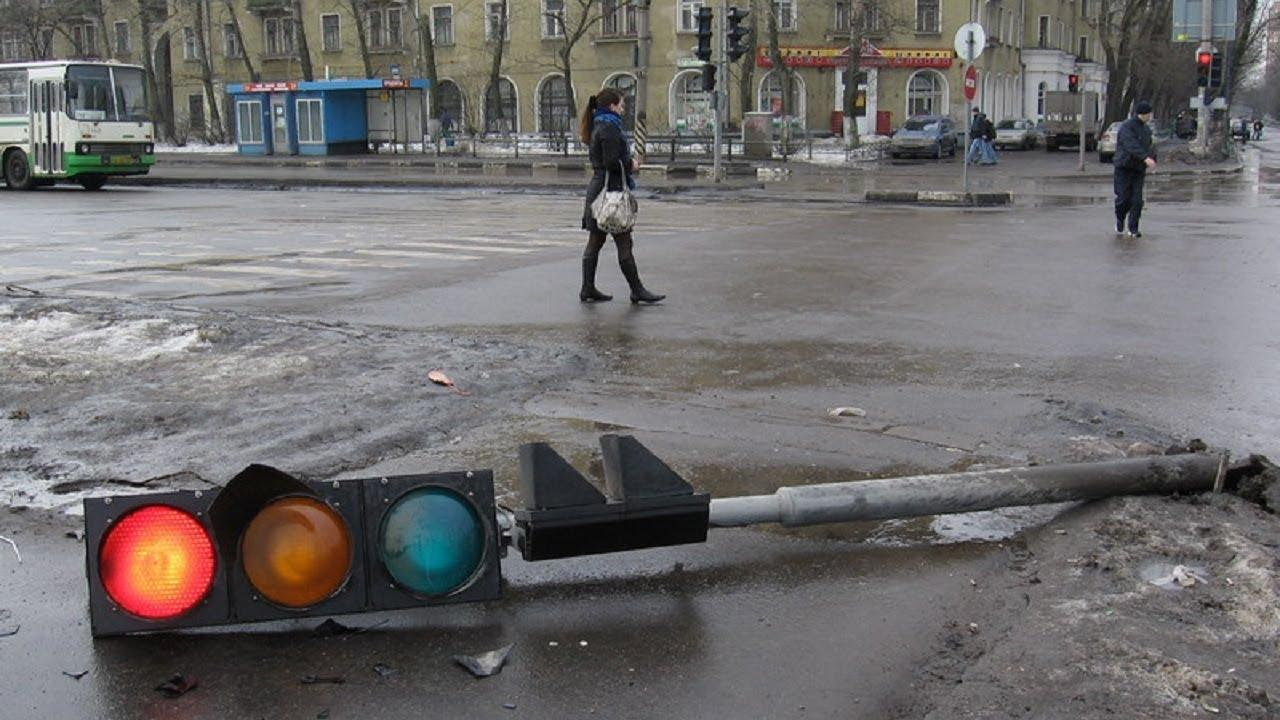off traffic light: (513, 430, 715, 565)
traffic light: (86, 464, 507, 634)
